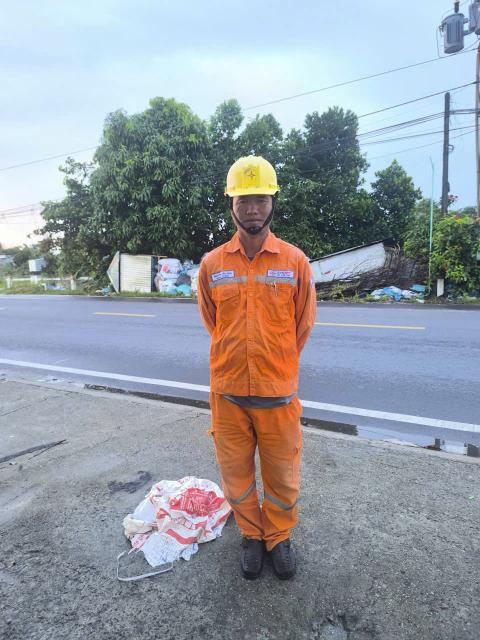helmet: (228, 154, 291, 206)
shoes: (230, 530, 272, 578), (269, 526, 302, 586)
